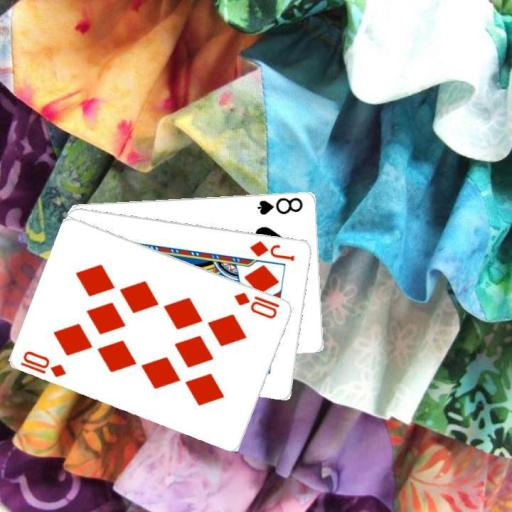10D: (231, 289, 282, 321), (17, 347, 68, 379)
8S: (254, 194, 304, 216)
JD: (247, 237, 297, 262)
